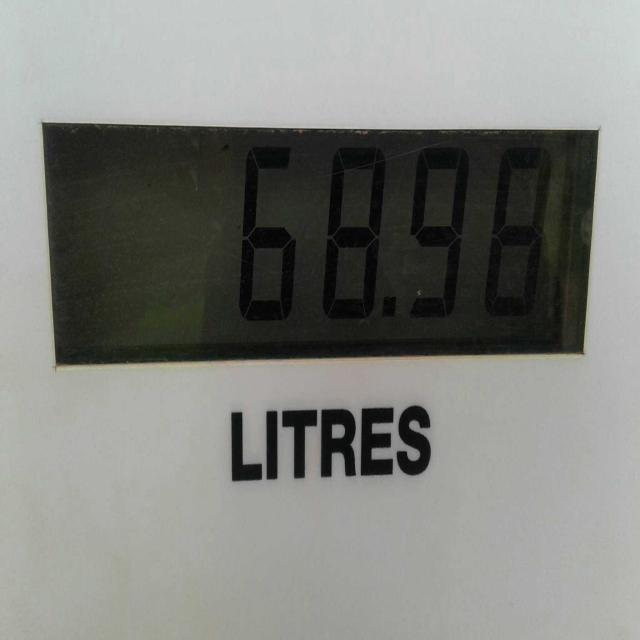.: (374, 284, 408, 330)
3: (227, 130, 310, 340)
8: (480, 147, 554, 334), (317, 150, 387, 338)
9: (398, 137, 472, 326)
